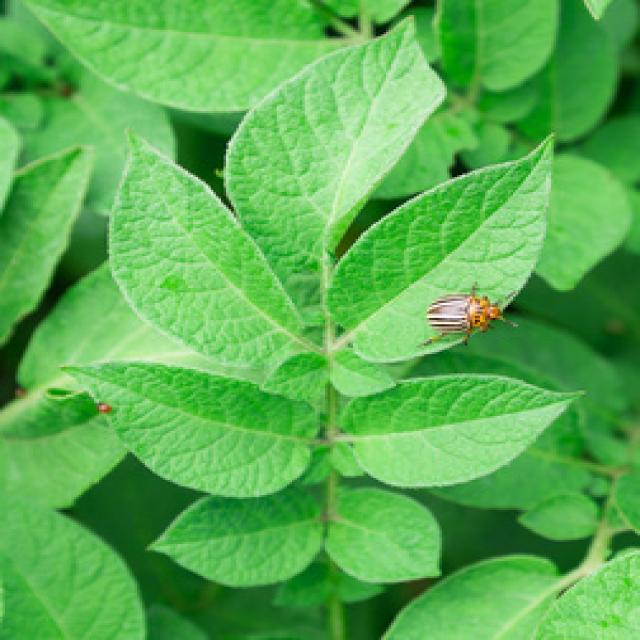ShuCaiHuaBanChong-Grown-: (419, 286, 536, 357)
